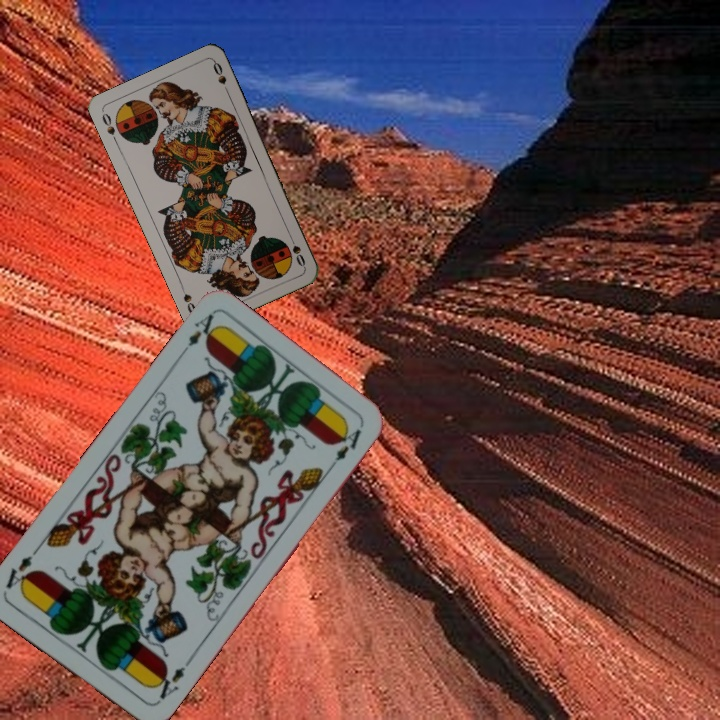EA: (174, 309, 222, 360), (149, 655, 194, 702)
SO: (285, 230, 308, 269), (98, 109, 120, 147)
